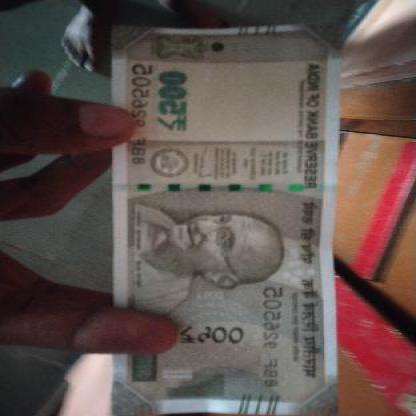New500Front: (108, 26, 335, 416)
